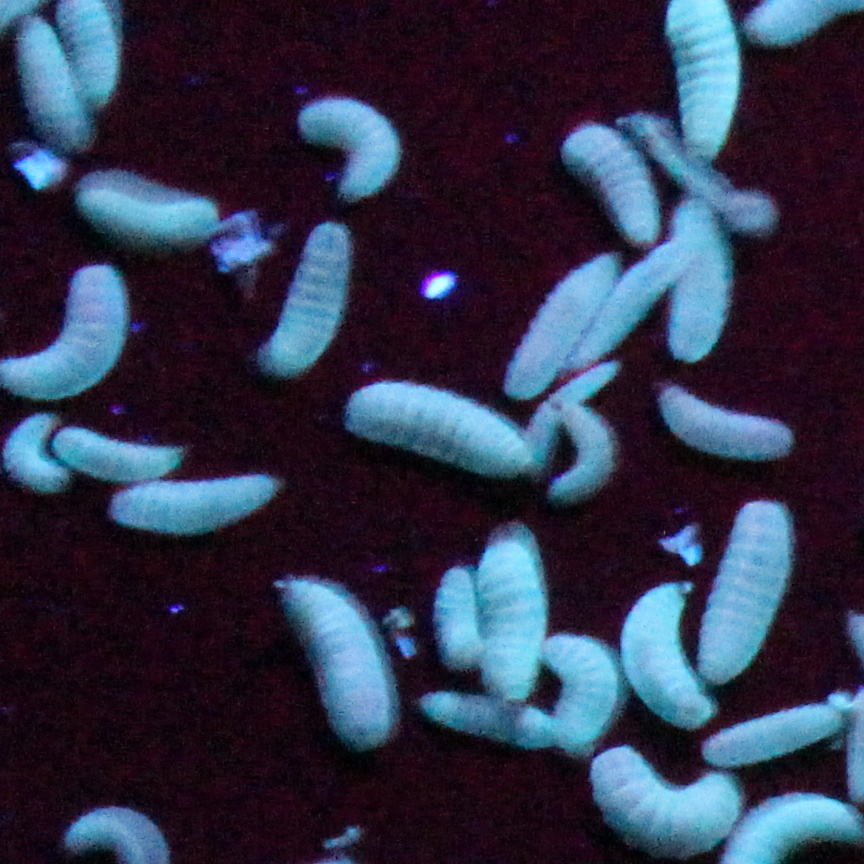larve: (588, 737, 745, 863), (693, 497, 798, 684), (280, 583, 394, 745), (1, 263, 129, 406), (349, 387, 532, 481), (578, 230, 695, 366), (506, 253, 614, 400), (255, 218, 355, 376), (554, 117, 664, 247), (622, 580, 718, 726), (662, 1, 742, 170), (106, 466, 285, 540), (662, 193, 737, 366), (296, 93, 406, 210), (474, 521, 544, 704), (15, 13, 98, 152), (653, 384, 795, 463), (76, 174, 219, 246), (699, 700, 852, 767), (537, 634, 614, 767), (547, 386, 617, 510), (49, 423, 188, 484), (418, 684, 552, 745), (58, 1, 126, 116), (4, 415, 78, 494), (430, 566, 483, 667)
